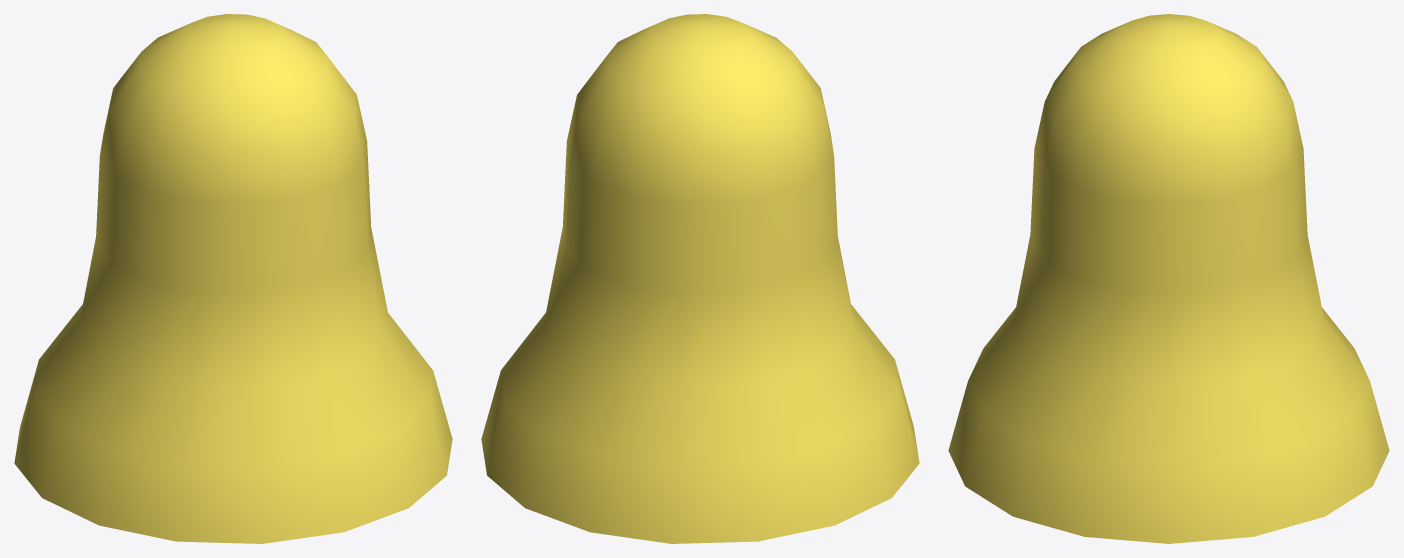
The model's file is Bell OLD.FBX.
The picture shows the model from 3 angles, left to right: view 1: azimuth 30°, elevation 25°; view 2: azimuth 150°, elevation 25°; view 3: azimuth 270°, elevation 25°; orthographic projection.
Parts seen in each view (by area): view 1: church_c; view 2: church_c; view 3: church_c.
Boxes of the visible parts, x1,y1,x2,y2 form: church_c: (14,14,452,543); church_c: (481,14,919,543); church_c: (948,14,1389,543).
Bounding box in the file's own units: 220 × 234 × 220.
